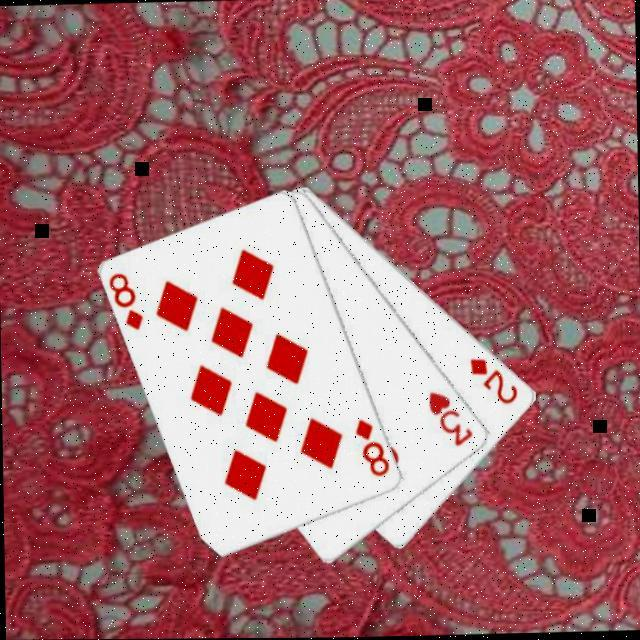2D: (465, 353, 520, 408)
3H: (424, 387, 475, 450)
8D: (351, 414, 392, 479), (105, 268, 146, 333)
